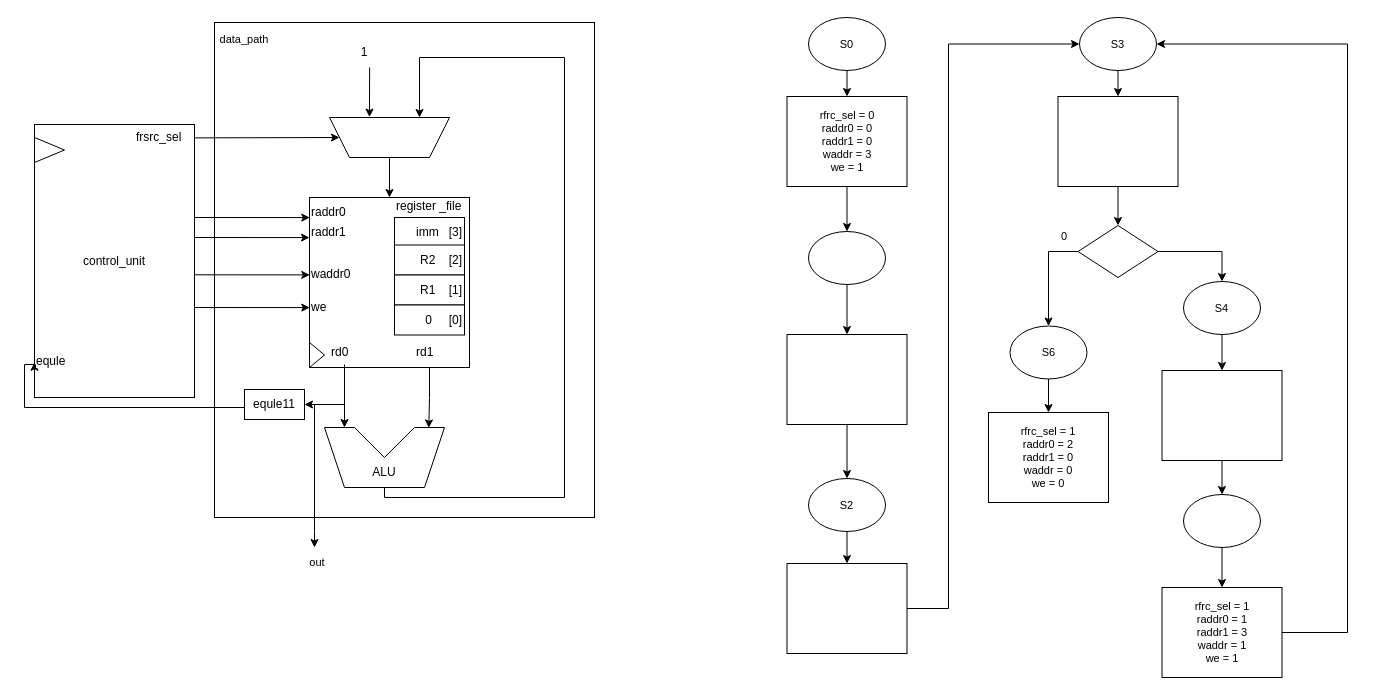
The diagram is 1373 pixels wide and 695 high, and some of its shapes have lost their labels. Here are the shapes that lost their labels. From the top down, the centre of each, then its label:
point (389, 137): MUX
point (1117, 141): rfrc_sel = 1 raddr0 = 1 raddr1 = 0 waddr = 0 we = 0
point (847, 257): S1
point (1117, 251): a != 11
point (846, 379): rfrc_sel = 1 raddr0 = 0 raddr1 = 0 waddr = 1 we = 1
point (1221, 415): rfrc_sel = 1 raddr0 = 1 raddr1 = 2 waddr = 2 we = 1
point (1221, 521): S5
point (846, 608): rfrc_sel = 1 raddr0 = 0 raddr1 = 0 waddr = 2 we = 1
